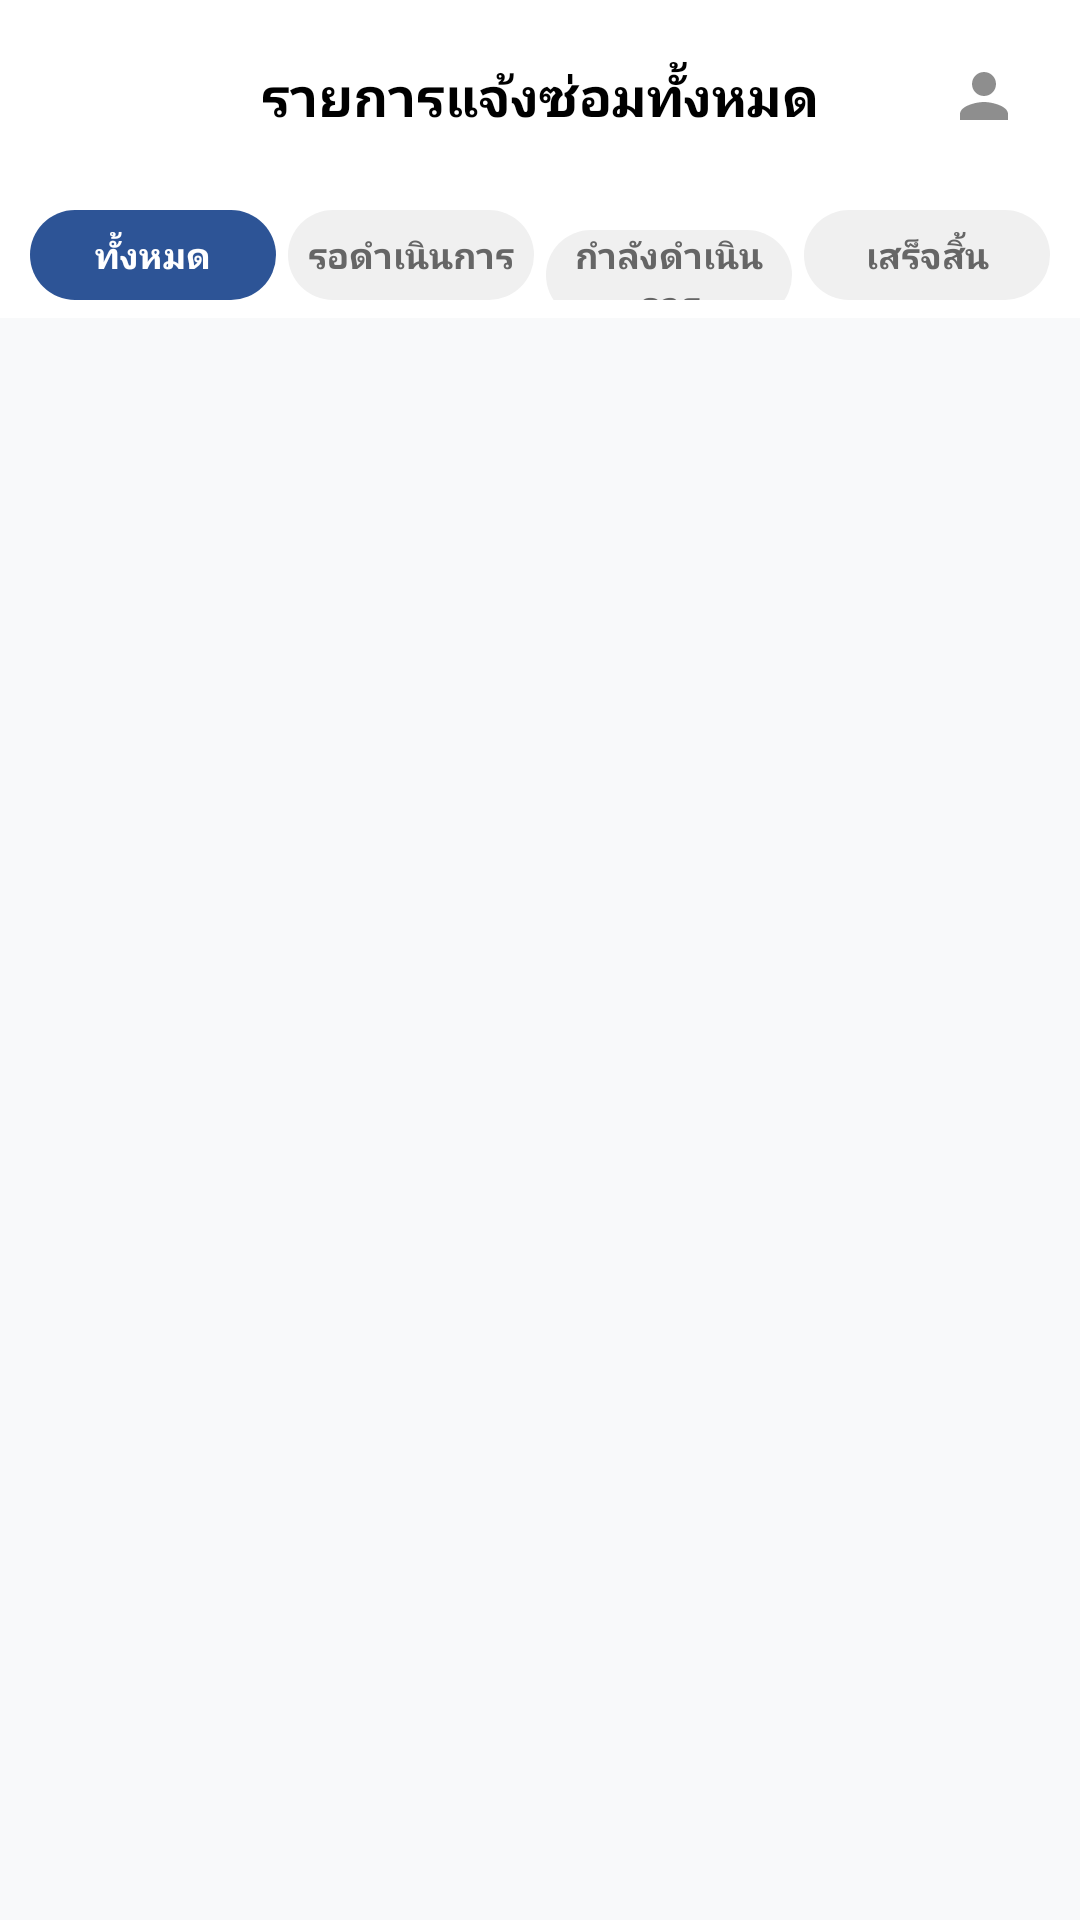

Screen size 1080×1920. Icon name, then its box in pixels as (x1, y1, x2, y2):
person: (960, 72, 1008, 120)
